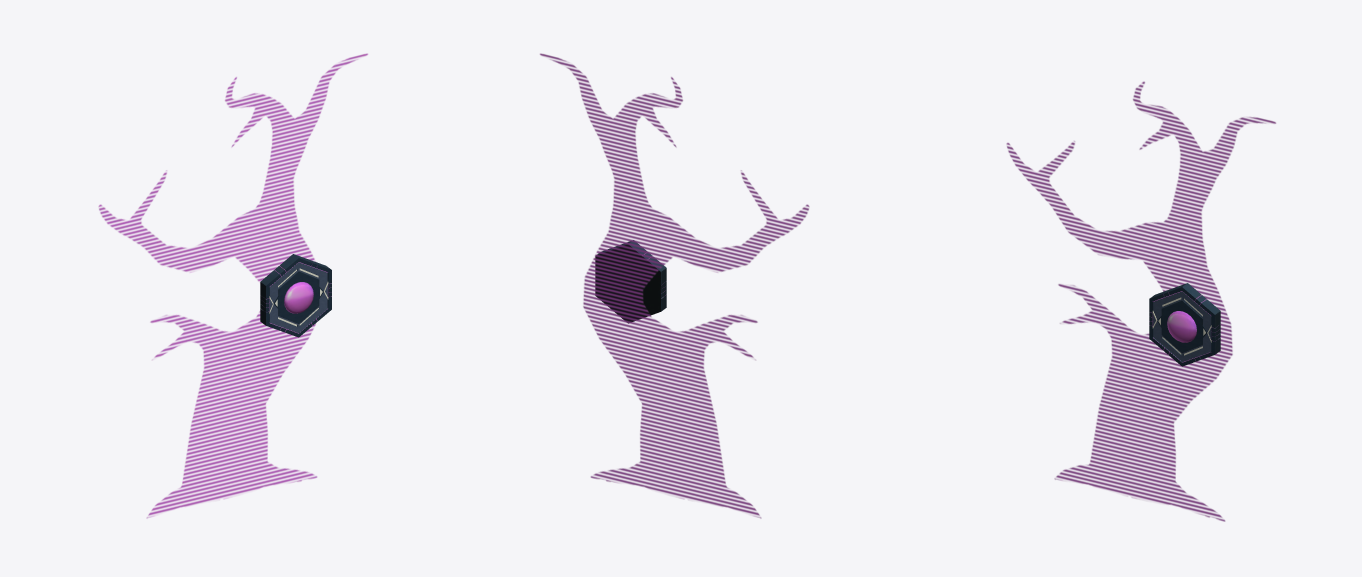
Rendered from holotree.glb.
The picture shows the model from 3 angles, left to right: view 1: azimuth 30°, elevation 25°; view 2: azimuth 150°, elevation 25°; view 3: azimuth 330°, elevation 25°; orthographic projection.
Visible parts, largest first — view 1: HoloTree01_Art; view 2: HoloTree01_Art; view 3: HoloTree01_Art.
Part boxes in pixels (left/top/right/bottom): HoloTree01_Art: left=98, top=53, right=367, bottom=518; HoloTree01_Art: left=540, top=53, right=809, bottom=518; HoloTree01_Art: left=1006, top=81, right=1275, bottom=521.
Size of the model in its own units: 4.41 by 4.41 by 0.2649.
2 materials, 2 textured.
